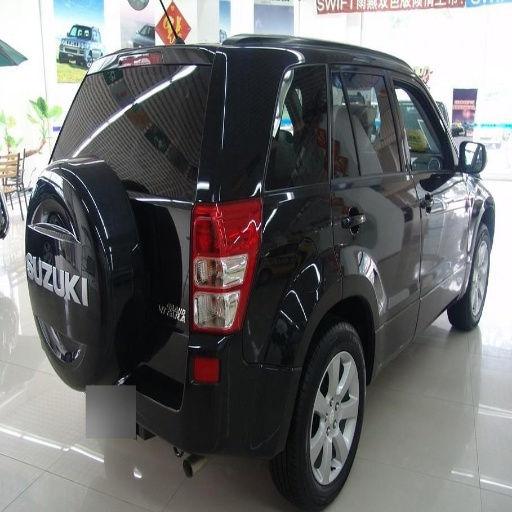back_bumper: (162, 365, 294, 458)
back_left_light: (191, 206, 210, 298)
trunk: (200, 188, 279, 334), (251, 275, 294, 389)
